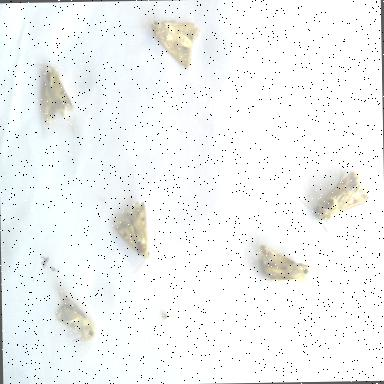abw: (290, 164, 373, 236), (128, 4, 204, 74), (110, 195, 172, 280), (26, 42, 78, 130), (50, 286, 100, 356), (254, 238, 312, 294)
